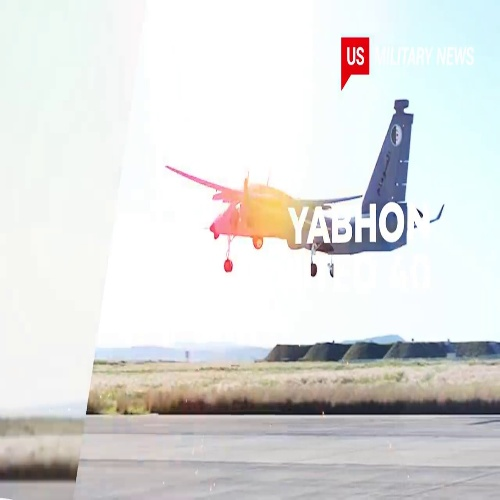uav: (166, 99, 446, 279)
